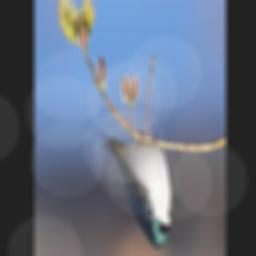Swallow: (101, 133, 176, 251)
